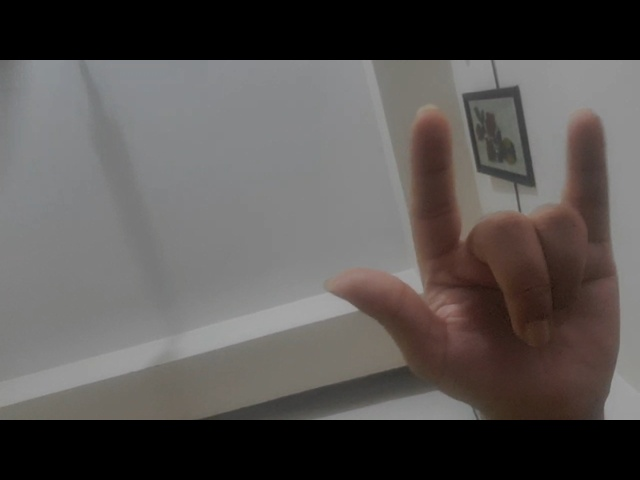I love you: (276, 90, 630, 415)
